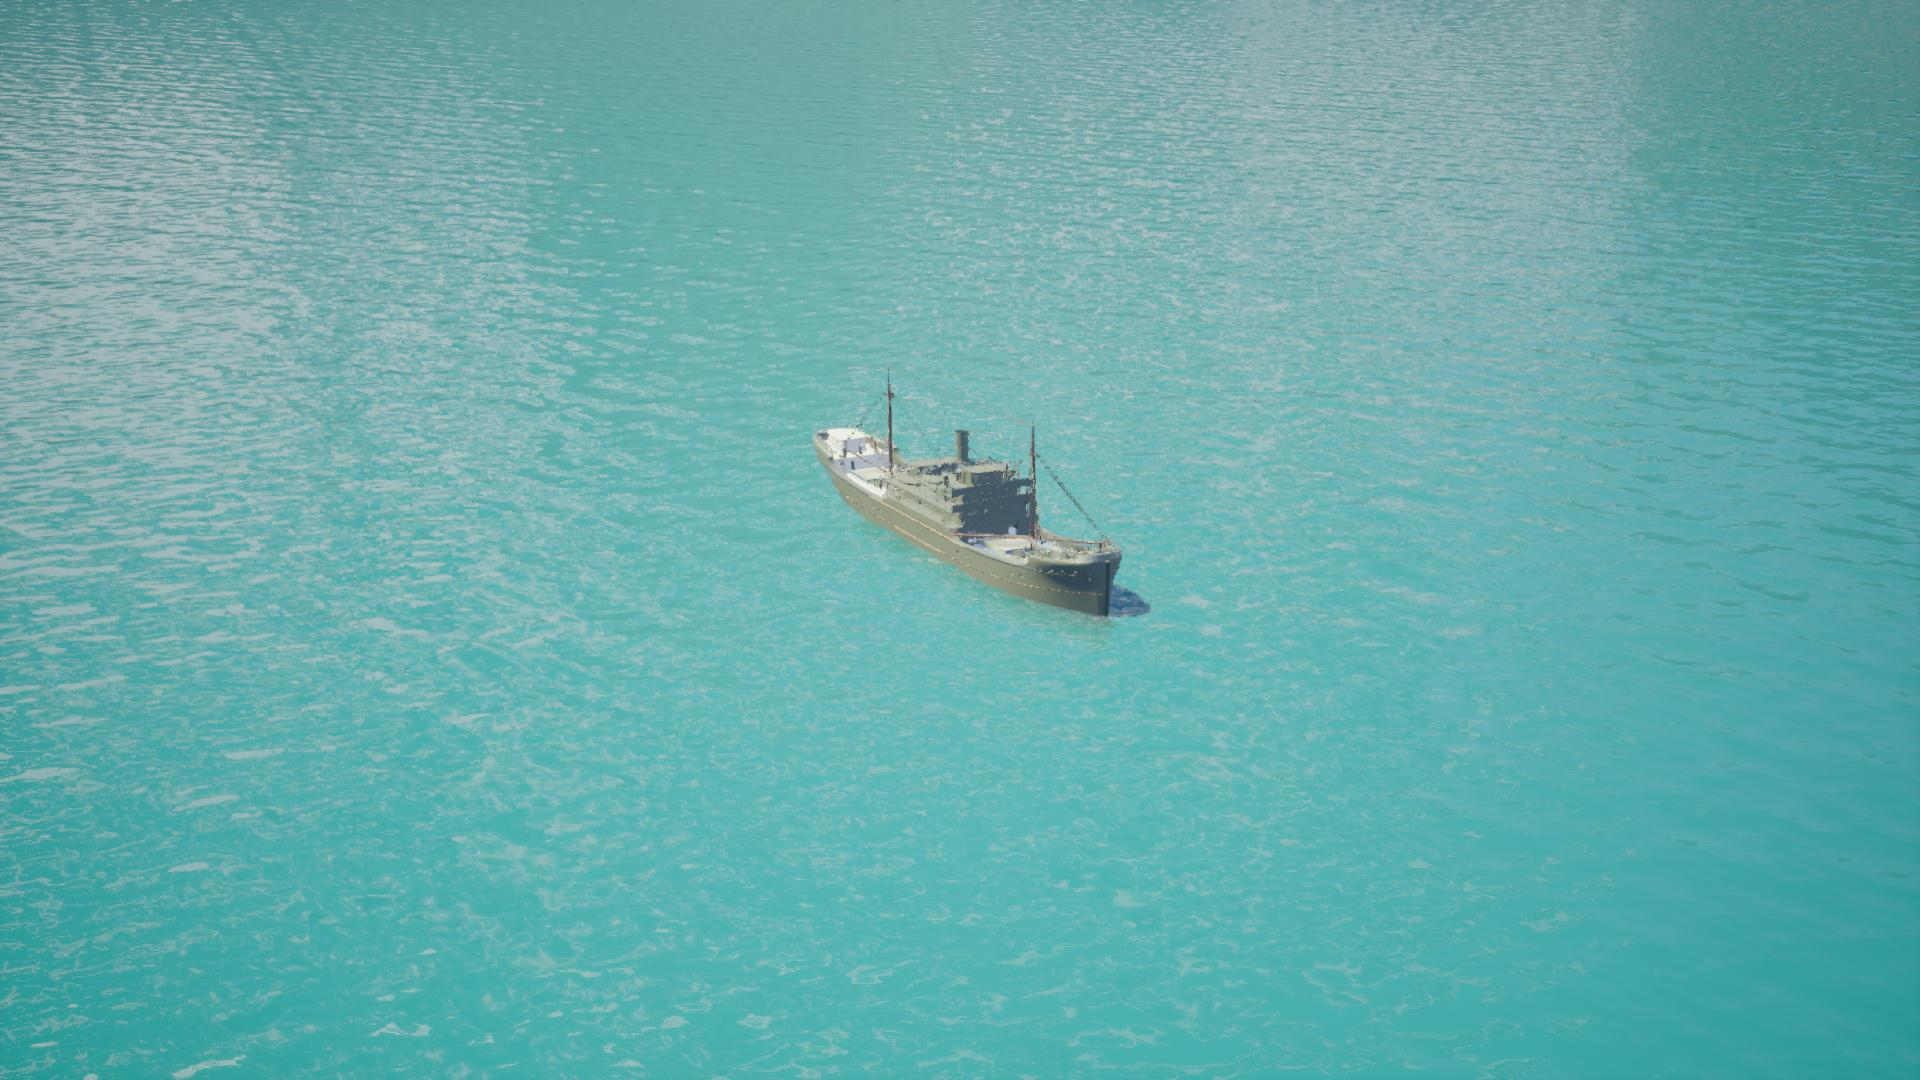Fishing Boat: (814, 430, 1134, 624)
